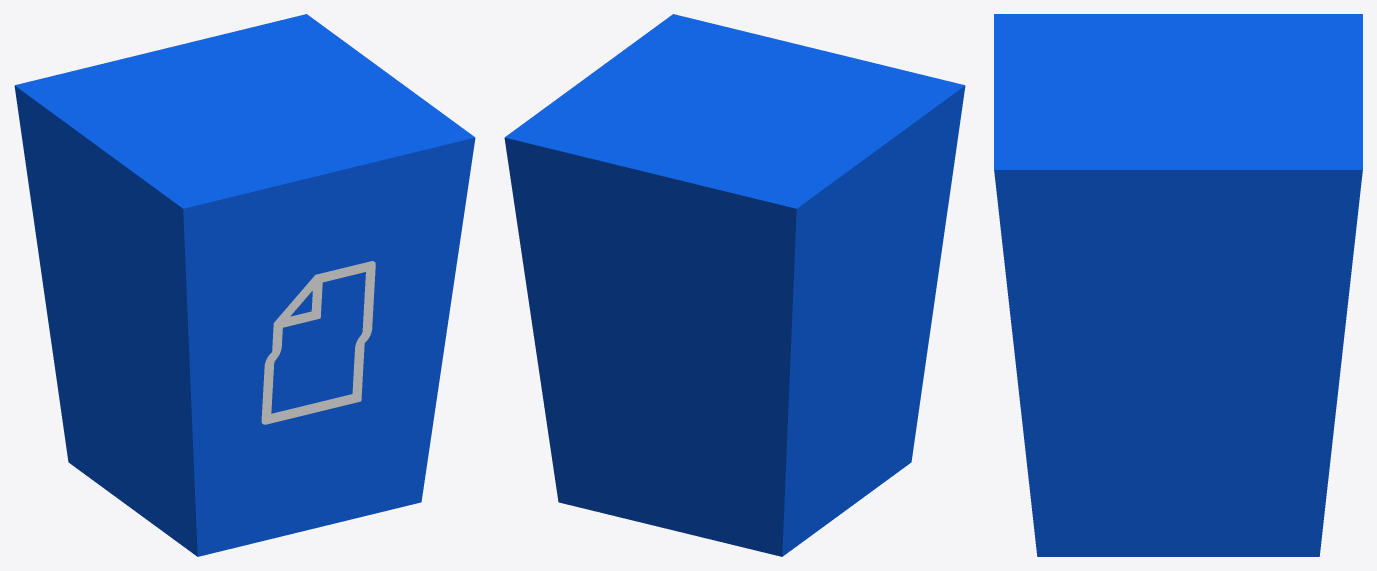
Rendered from PaperTrash.fbx.
The picture shows the model from 3 angles, left to right: view 1: azimuth 30°, elevation 25°; view 2: azimuth 150°, elevation 25°; view 3: azimuth 270°, elevation 25°; orthographic projection. The views are drawn at different scales.
Visible parts, largest first — view 1: PaperTrash, paper; view 2: PaperTrash; view 3: PaperTrash.
Part boxes in pixels (x1,y1,x2,y2): PaperTrash: (14,14,475,556); paper: (261,261,375,424); PaperTrash: (504,14,965,556); PaperTrash: (994,14,1362,556).
Size of the model in its own units: 41.17 by 49.93 by 41.17.
